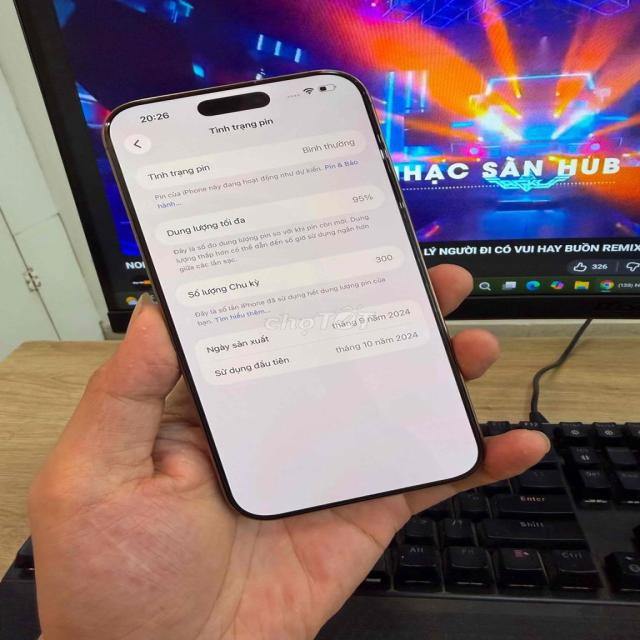gen_16: (104, 71, 480, 517)
